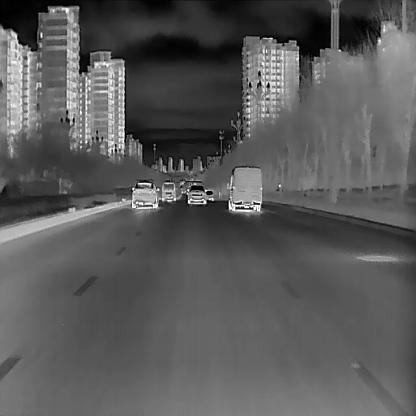car: (226, 165, 262, 212), (129, 179, 159, 209), (185, 184, 206, 205), (160, 181, 176, 203), (204, 190, 214, 201)
